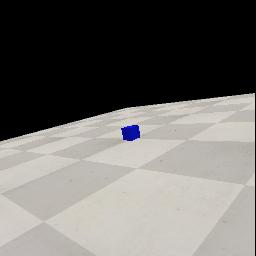box: (121, 125, 140, 141)
